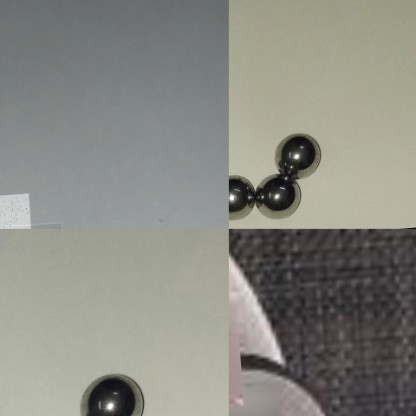ironball: (228, 339, 354, 415), (254, 171, 306, 222), (270, 128, 323, 178), (84, 371, 143, 414), (229, 171, 256, 221)
